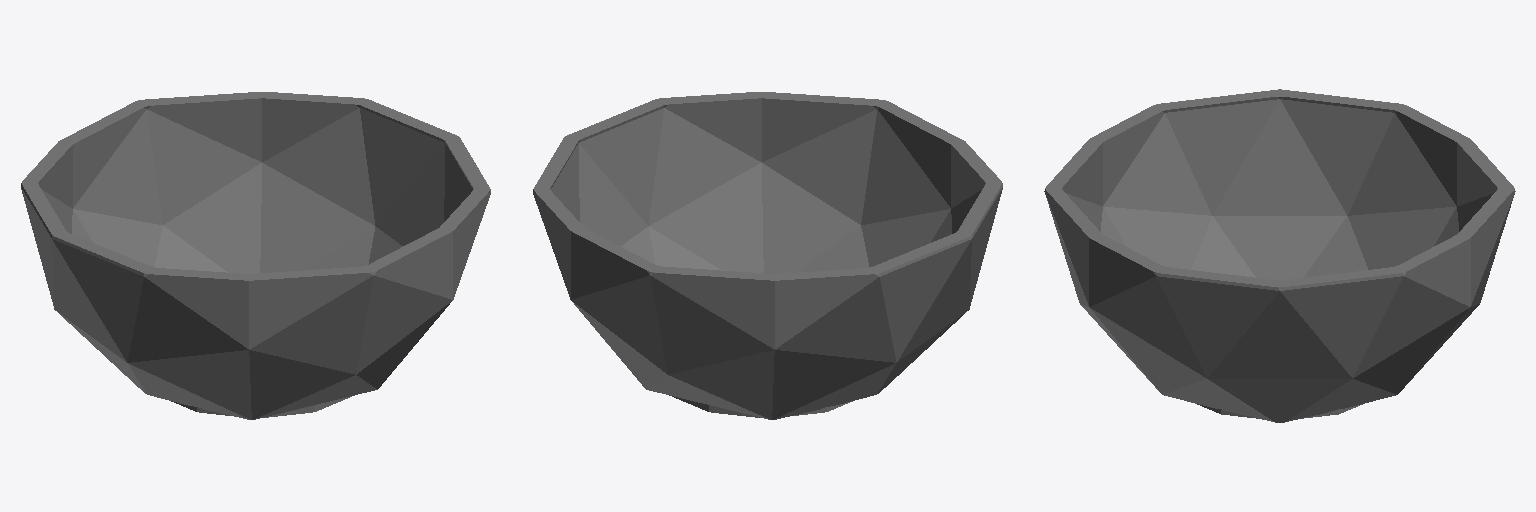
The robot description file, URDF, robot "bowl":
<?xml version="1.0"?>
<robot name="bowl"
       xmlns:xi="http://www.w3.org/2001/XInclude">
  <gazebo>
    <static>false</static>
  </gazebo>
  <link name="nil_link">
    <visual>
      <origin xyz="0 0 0" rpy="0 -0 0"/>
      <geometry>
        <mesh filename="model://bowl/meshes/nil_link_mesh.dae" scale="1 1 1" />
      </geometry>
    </visual>
    <collision>
      <origin xyz="0 0 0" rpy="0 -0 0"/>
      <geometry>
        <mesh filename="model://bowl/meshes/nil_link_mesh.dae" scale="1 1 1" />
      </geometry>
    </collision>
    <inertial>
      <mass value="0.001" />
      <origin xyz="0 0 0" rpy="0 -0 0"/>
      <inertia ixx="1e-03" ixy="0" ixz="0" iyy="1e-03" iyz="0" izz="1e-03"/>
    </inertial>
  </link>
  <gazebo reference="nil_link">
    <mu1>0.9</mu1>
    <mu2>0.9</mu2>
  </gazebo>
</robot>

--- Render facts (derived) ---
Views: 3 orthographic renders of the robot side by side, from view 1: azimuth 30°, elevation 25°; view 2: azimuth 150°, elevation 25°; view 3: azimuth 270°, elevation 25°.
Robot: bowl — 1 links, 0 joints (none); root link nil_link; default pose: all joints at 0.
Visible links, largest first — view 1: nil_link; view 2: nil_link; view 3: nil_link.
Boxes of the visible links, left/top/right/bottom form: nil_link: left=21, top=92, right=490, bottom=419; nil_link: left=533, top=92, right=1002, bottom=419; nil_link: left=1044, top=89, right=1515, bottom=422.
Bounding box of the posed robot: 0.14 × 0.14 × 0.06 m (x, y, z).
Meshes: 1 distinct files referenced, 1 mesh visuals loaded (1 Collada DAE).